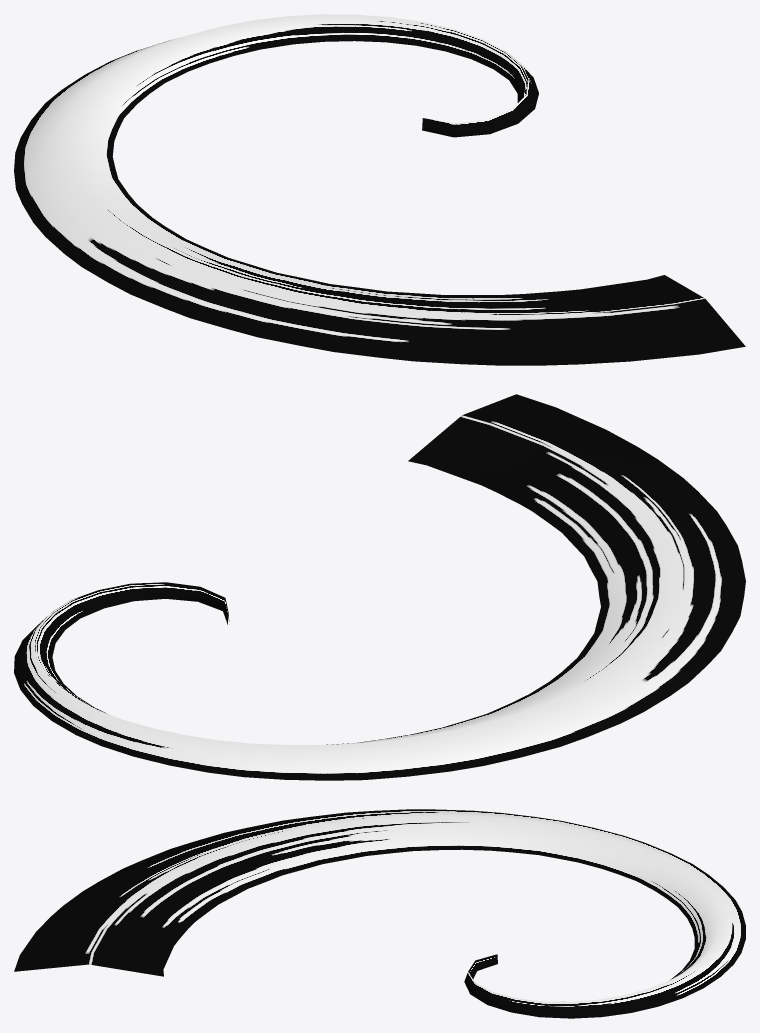
The model's file is VFX_TwistTrail2.FBX.
3 views of the same model, one above another, from view 1: azimuth 30°, elevation 25°; view 2: azimuth 150°, elevation 25°; view 3: azimuth 270°, elevation 25° (orthographic). The views are drawn at different scales.
Visible parts, largest first — view 1: TwistTrail2; view 2: TwistTrail2; view 3: TwistTrail2.
Boxes of the visible parts, x1,y1,x2,y2 form: TwistTrail2: (14, 14, 745, 365); TwistTrail2: (14, 394, 745, 780); TwistTrail2: (14, 809, 745, 1018).
Bounding box in the file's own units: 273 × 8.59 × 404.
